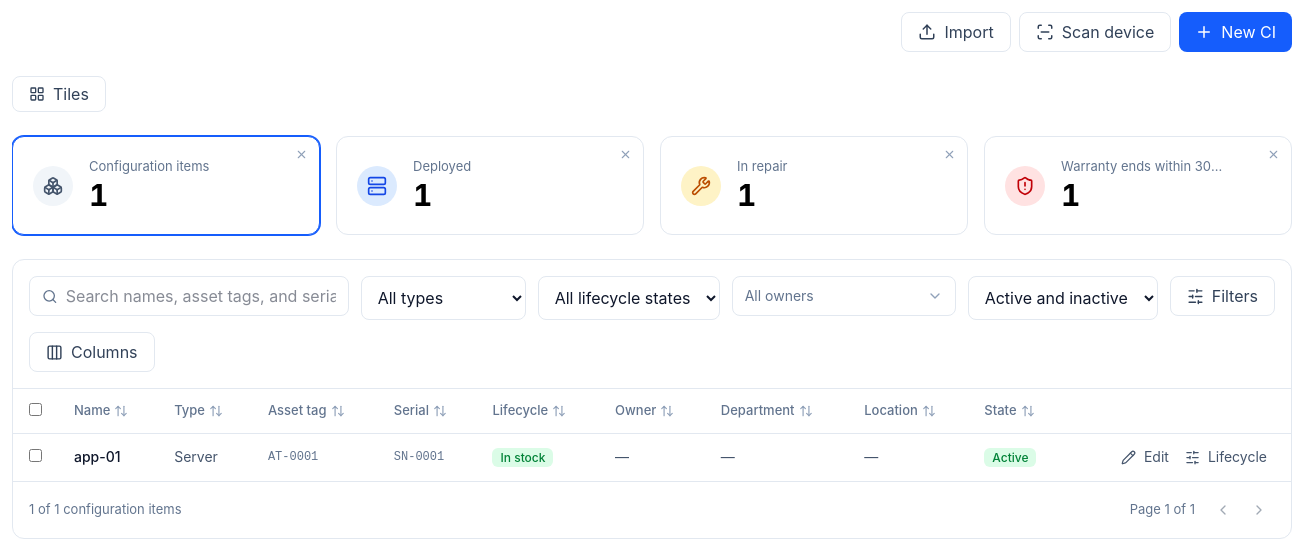
it: CiListPage › filters by an owner typed into the box
Expected: the link "app-01" is shown, [74,448,121,465]
Note: Matching is on any part of the name, not a prefix — people search by surname.
Step 1. Type "user one" into the dropdown named "Filter by owner" → (834, 296), box [745,286,923,306]
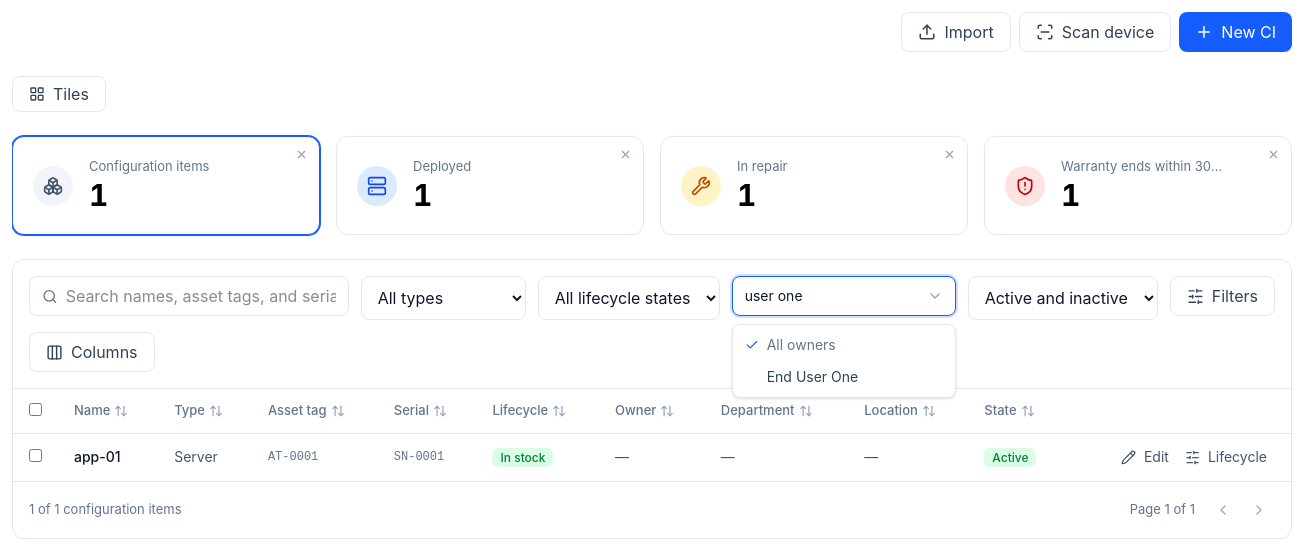
Step 2. Click the option "End User One" → click(812, 376), box [767,368,858,385]
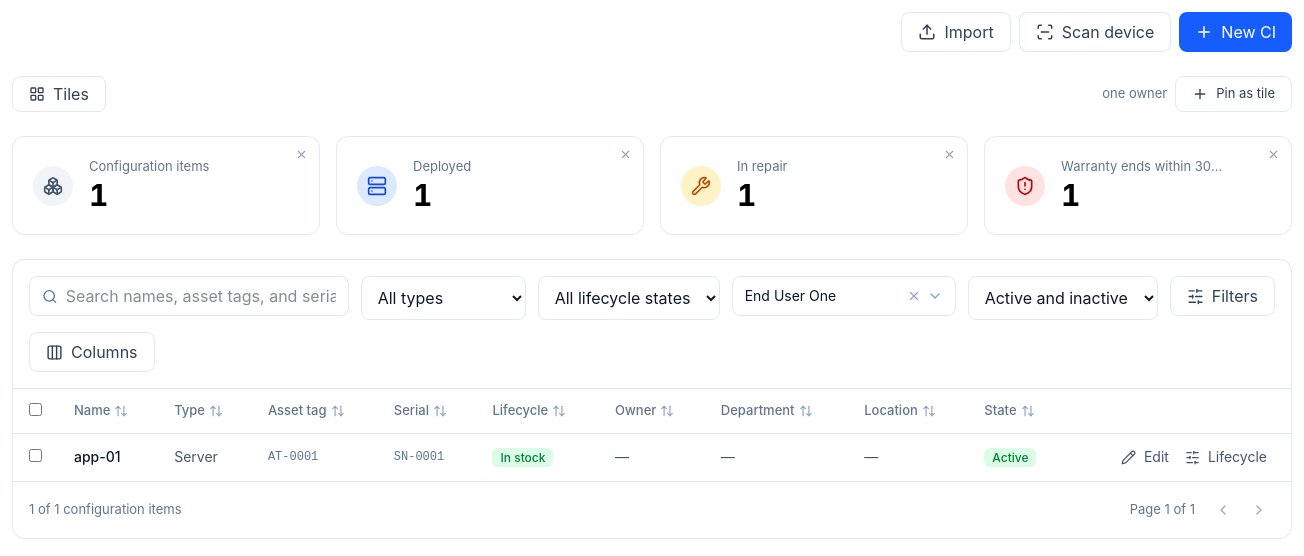
Expected: the dropdown named "Filter by owner" holds "End User One", [745,286,901,306]
